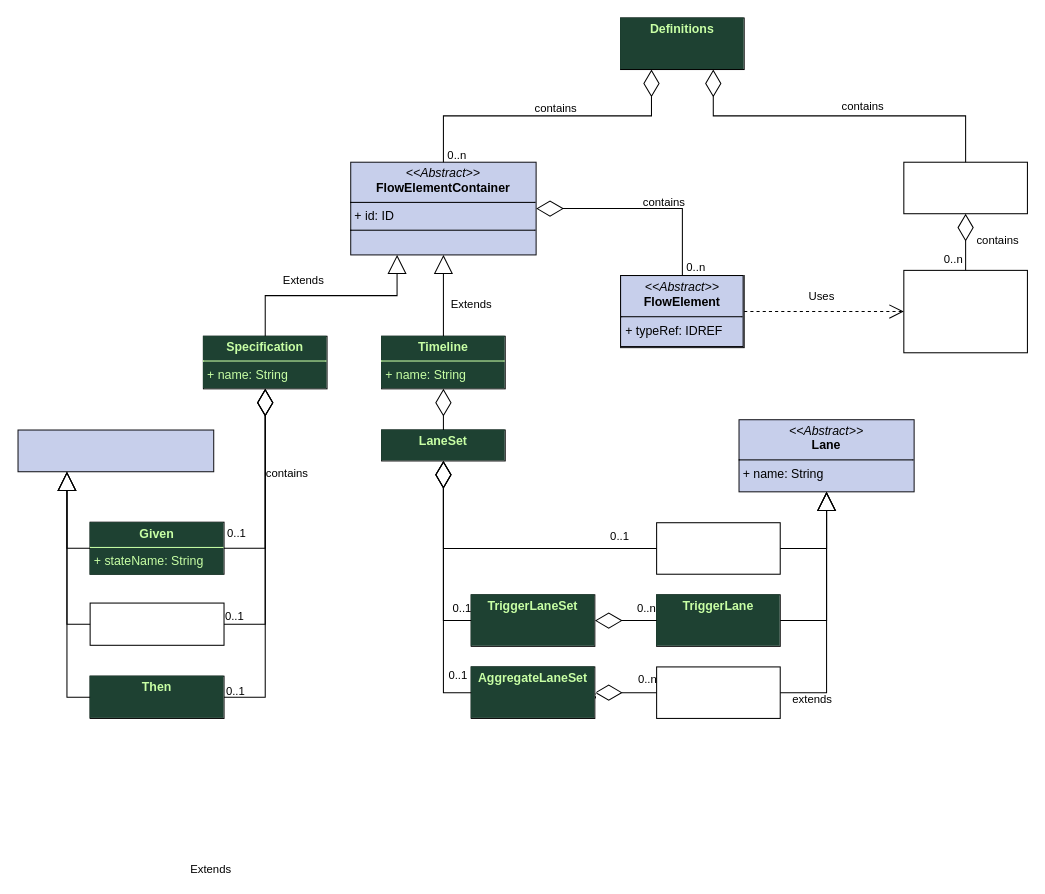
Some shapes in this 1045 by 894 pixel diagram are drawn without their labels. Each missing label, with the box of its shape:
<<Abstract>> FlowElementType + id: ID + name: String: (903, 269, 1027, 353)
<<Abstract>> Stage: (17, 429, 214, 472)
AggregateLane: (656, 666, 780, 718)
InteractionLane: (656, 522, 780, 574)
Types: (903, 161, 1027, 214)
When: (89, 602, 224, 645)
